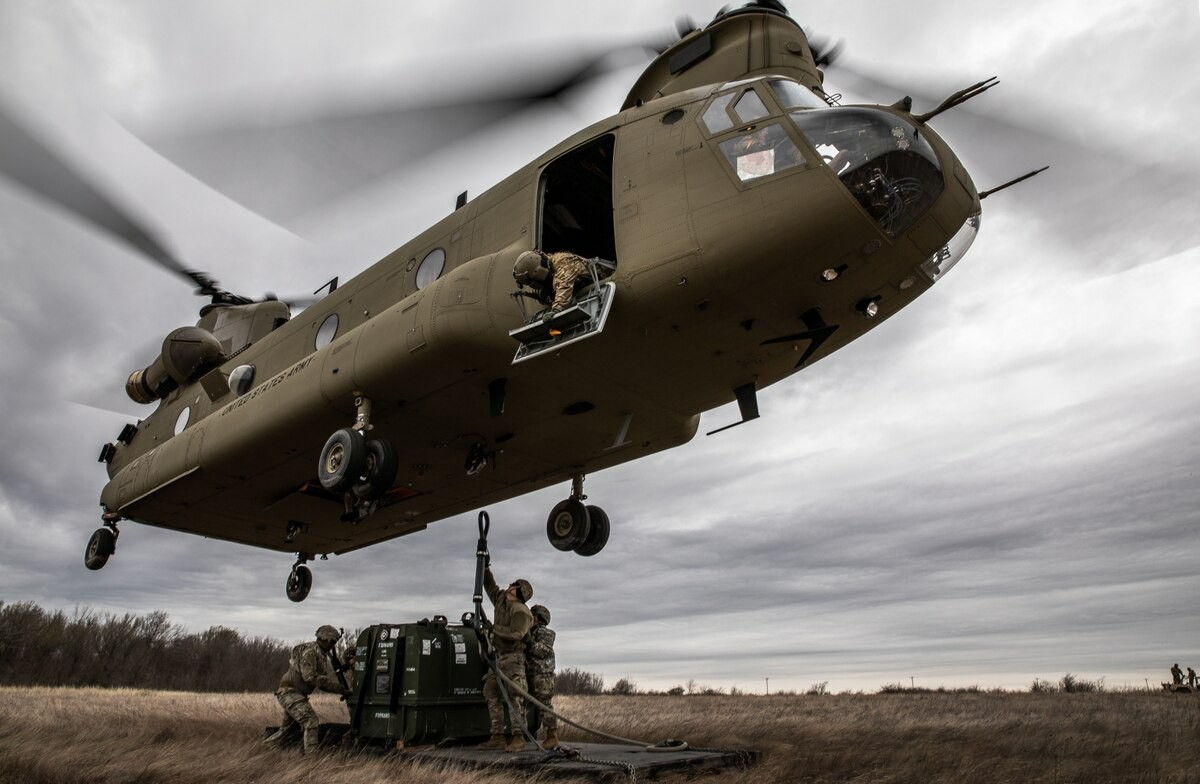chinook: (32, 10, 1081, 601)
